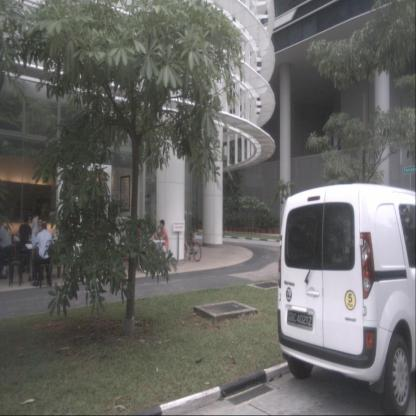human-pedestrian-adult: (33, 220, 54, 286), (30, 215, 48, 279), (18, 216, 33, 273), (0, 218, 12, 278), (156, 219, 170, 266), (31, 210, 43, 262)
vehicle-bicycle: (180, 233, 202, 262)
vehicle-car: (277, 182, 415, 415)
